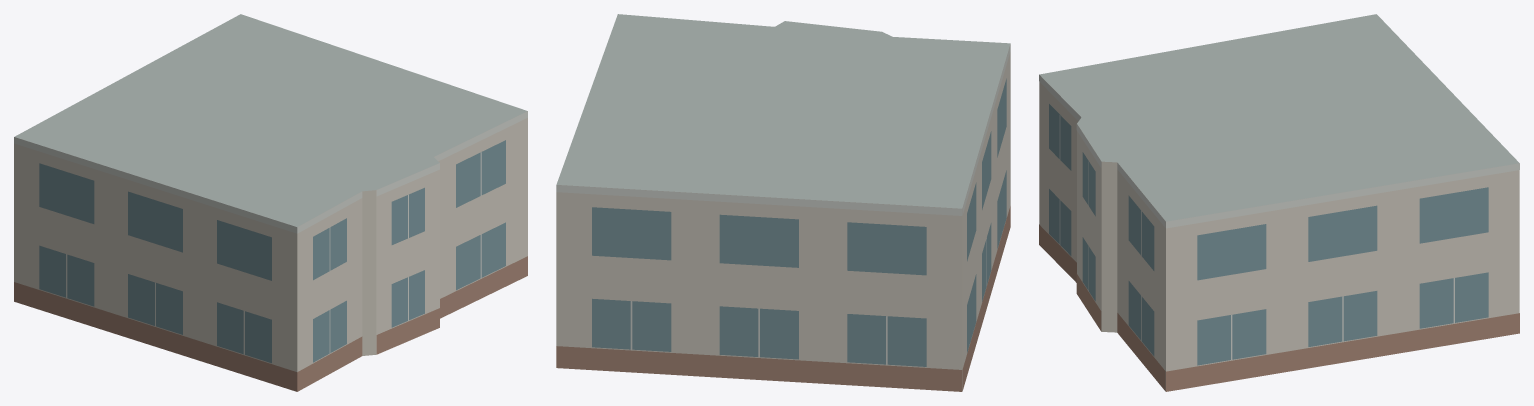
File: survey-upis-32848992.glb
The picture shows the model from 3 angles, left to right: view 1: azimuth 30°, elevation 25°; view 2: azimuth 150°, elevation 25°; view 3: azimuth 270°, elevation 25°; orthographic projection. The views are drawn at different scales.
Visible parts, largest first — view 1: survey-upis-32848992.tmp; view 2: survey-upis-32848992.tmp; view 3: survey-upis-32848992.tmp.
Boxes of the visible parts, x1,y1,x2,y2 form: survey-upis-32848992.tmp: [14, 14, 527, 391]; survey-upis-32848992.tmp: [556, 14, 1010, 391]; survey-upis-32848992.tmp: [1039, 14, 1519, 391].
Size of the model in its own units: 15.97 by 6.1 by 15.62.
